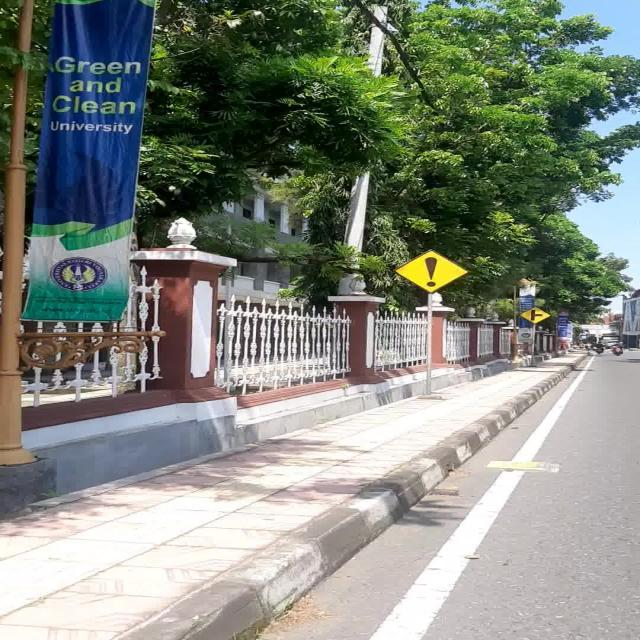Hati-Hati: (394, 248, 469, 293)
